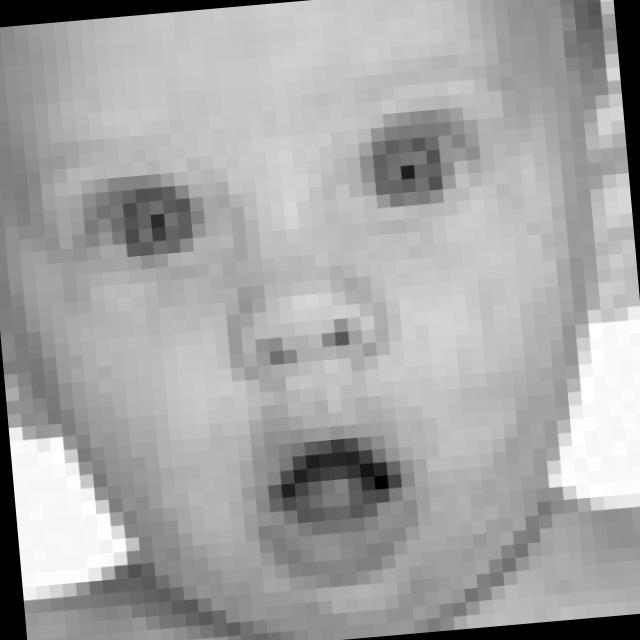surprise: (43, 67, 546, 614)
